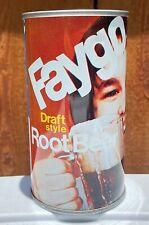metal: (25, 10, 128, 218)
